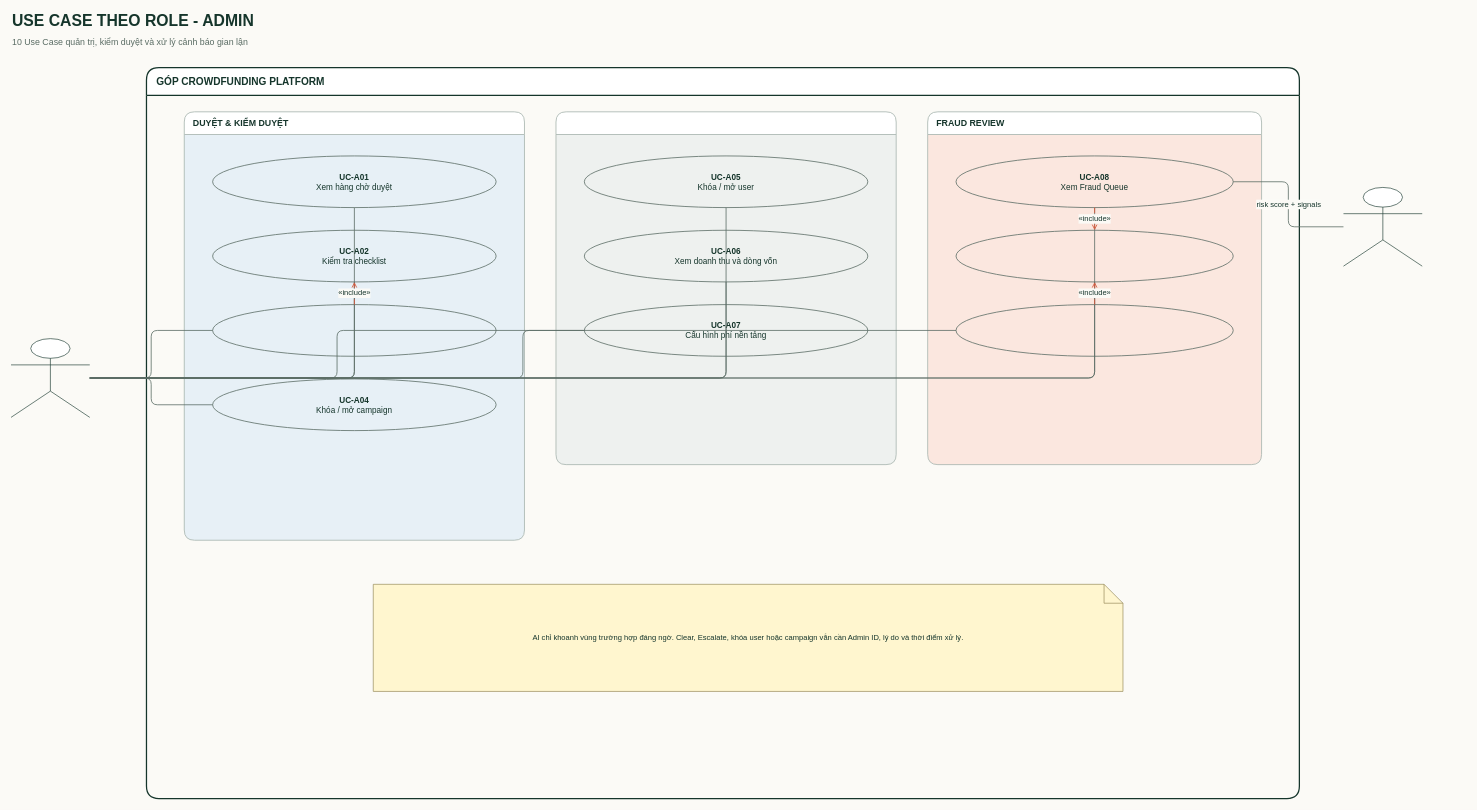
Some shapes in this 1477 by 810 pixel diagram are drawn without their labels. Each missing label, with the box of its shape:
Admin: (10, 338, 90, 417)
Fraud Detection Service: (1343, 187, 1422, 266)
TÀI KHOẢN & NỀN TẢNG: (555, 111, 896, 465)
UC-A03 Duyệt / yêu cầu sửa / từ chối: (212, 304, 496, 356)
UC-A09 Xem fraud signals / evidence: (955, 230, 1233, 282)
UC-A10 Clear / Escalate alert: (955, 304, 1233, 356)
